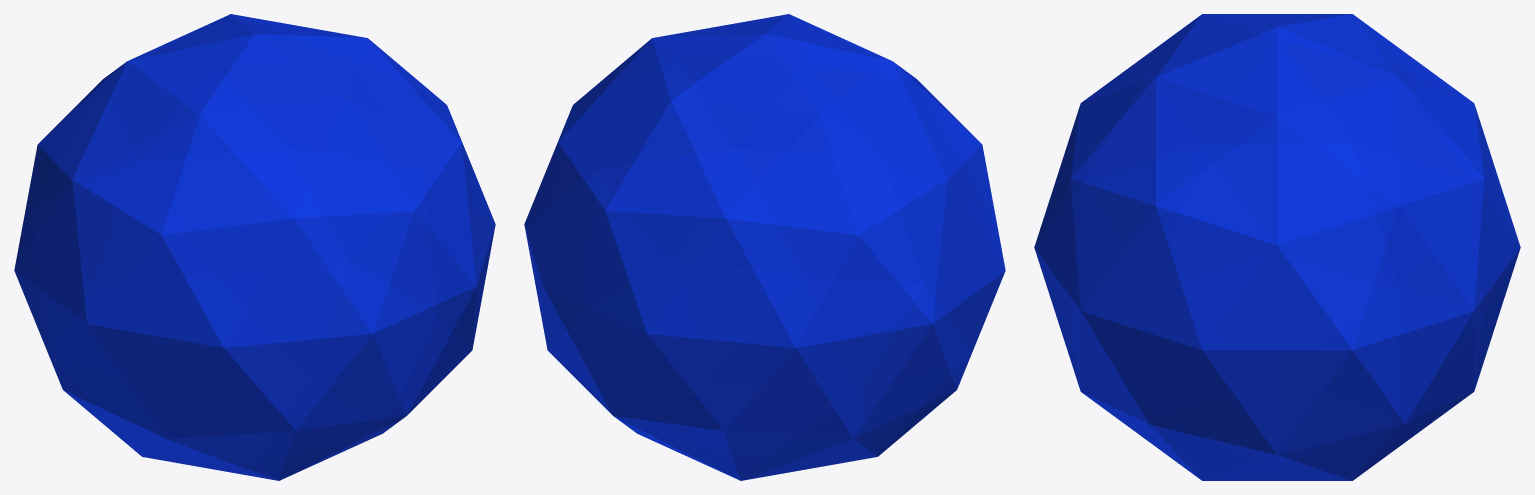
Rendered from energyBall.fbx.
3 renders of one model, left to right at view 1: azimuth 30°, elevation 25°; view 2: azimuth 150°, elevation 25°; view 3: azimuth 270°, elevation 25°, orthographic. The views are drawn at different scales.
Visible parts, largest first — view 1: 棱角球; view 2: 棱角球; view 3: 棱角球.
Part boxes in pixels (x1=…): 棱角球: x1=14, y1=14, x2=495, y2=480; 棱角球: x1=524, y1=14, x2=1005, y2=480; 棱角球: x1=1034, y1=14, x2=1520, y2=480.
Bounding box in the file's own units: 40 × 40 × 40.
